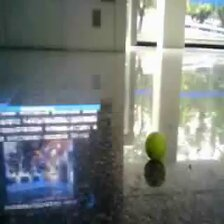tennis: (144, 132, 167, 158)
